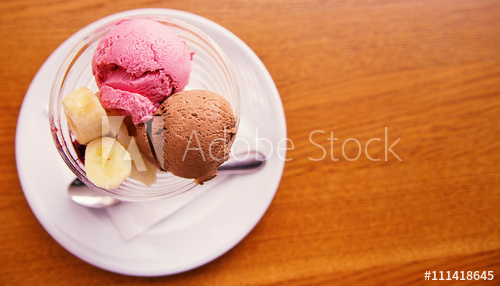ice-cream: (92, 18, 192, 115), (152, 90, 235, 184)
